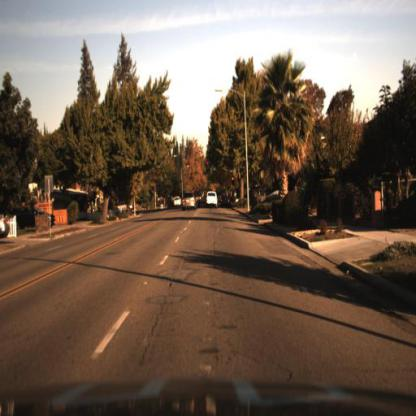car: (11, 195, 62, 238), (16, 206, 61, 230), (182, 195, 197, 215), (207, 191, 220, 208), (172, 196, 183, 210)
trafficLight-Red: (204, 156, 212, 172), (229, 174, 237, 190)
